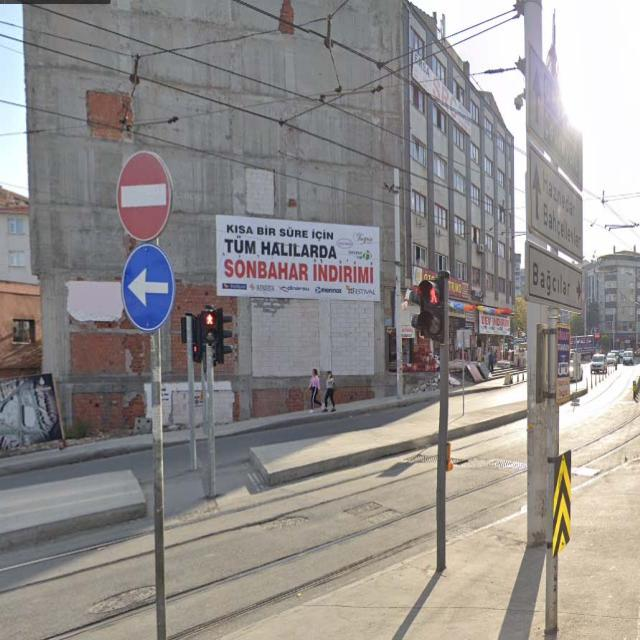girisyok: (116, 151, 173, 242)
sol: (123, 245, 174, 330)
